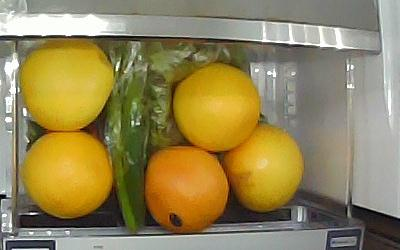grapefruit: (18, 39, 114, 131), (19, 129, 113, 218), (171, 60, 261, 151), (221, 121, 304, 212), (145, 143, 229, 231)
